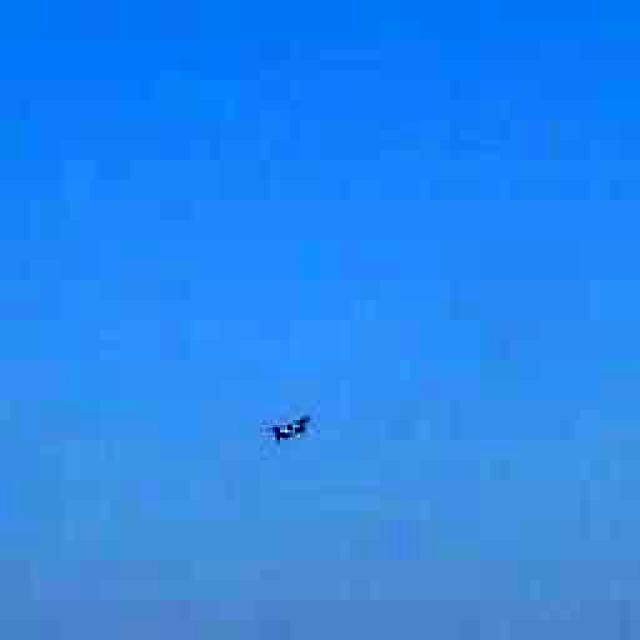bird: (255, 382, 320, 465)
